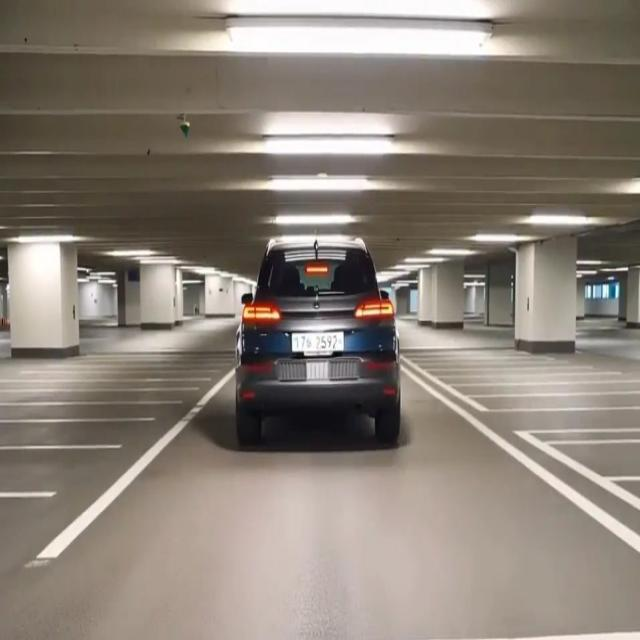car: (287, 331, 347, 358)
